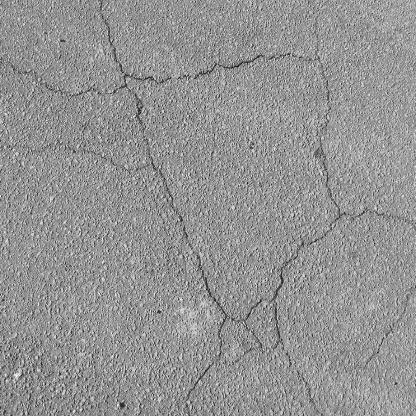Cracks: (124, 87, 238, 320), (245, 217, 348, 351), (0, 40, 126, 102), (116, 50, 326, 87), (360, 270, 416, 374), (173, 323, 229, 416), (313, 87, 347, 214), (93, 0, 131, 47)
